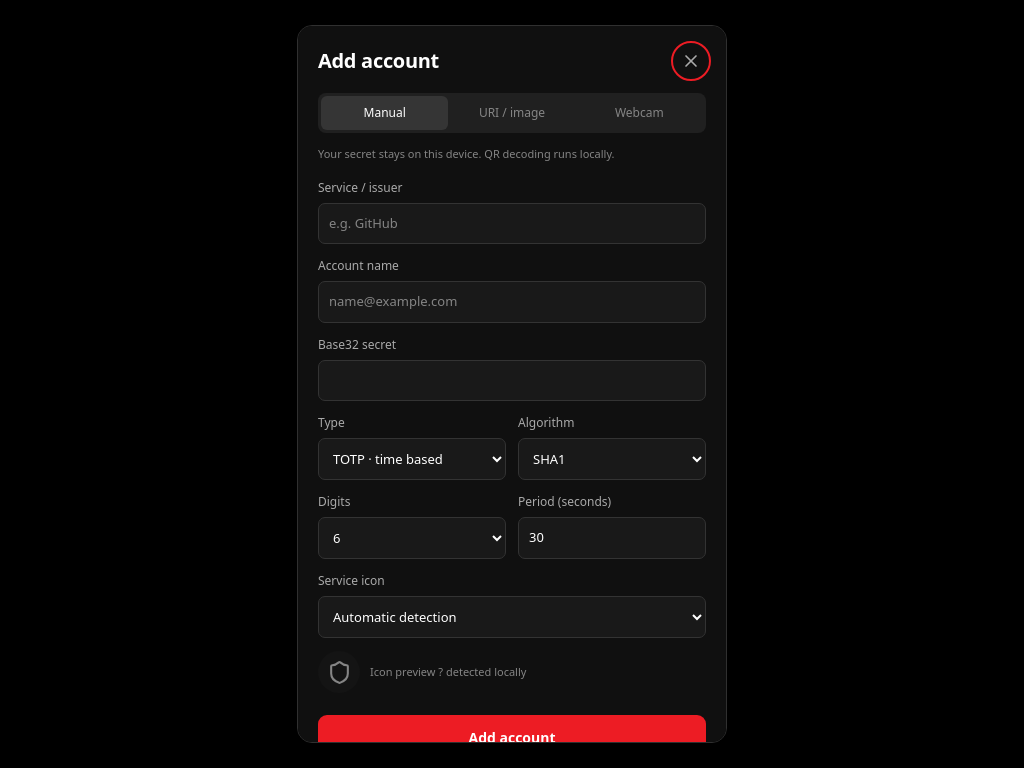
Test: shows backend validation errors without dismissing the account form
Type "alice" into the field labelled "Account name" at (512, 302), box [318,281,706,323]
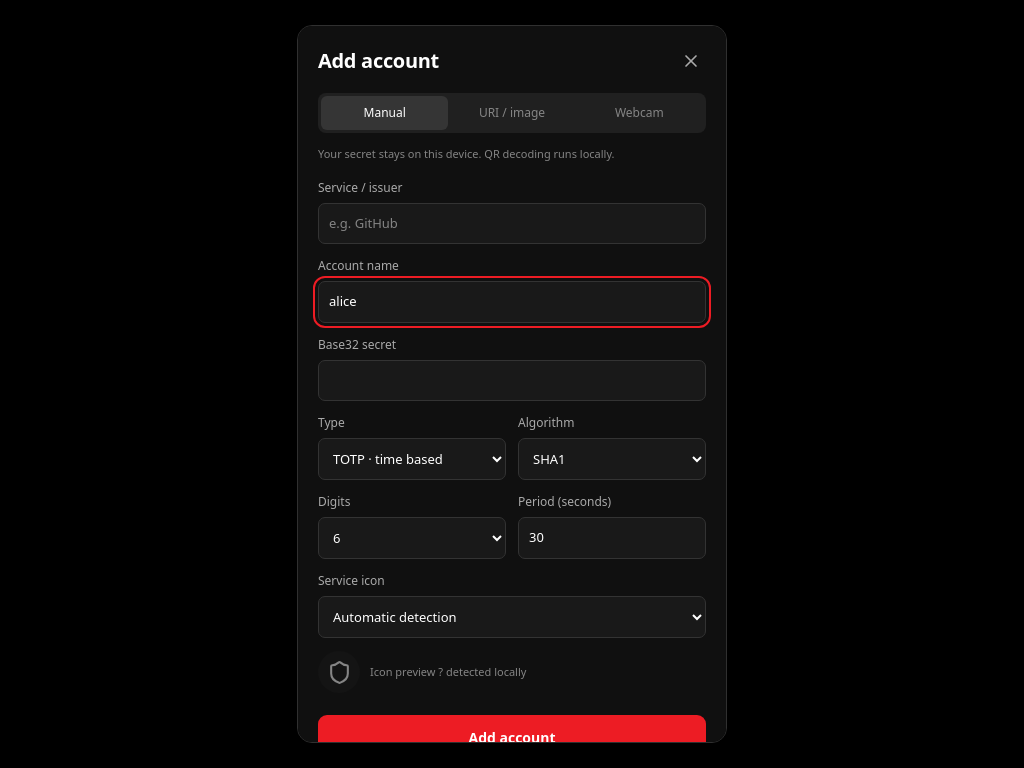
Type "INVALID!" into the password field labelled "Base32 secret" at (512, 380), box [318,360,706,401]
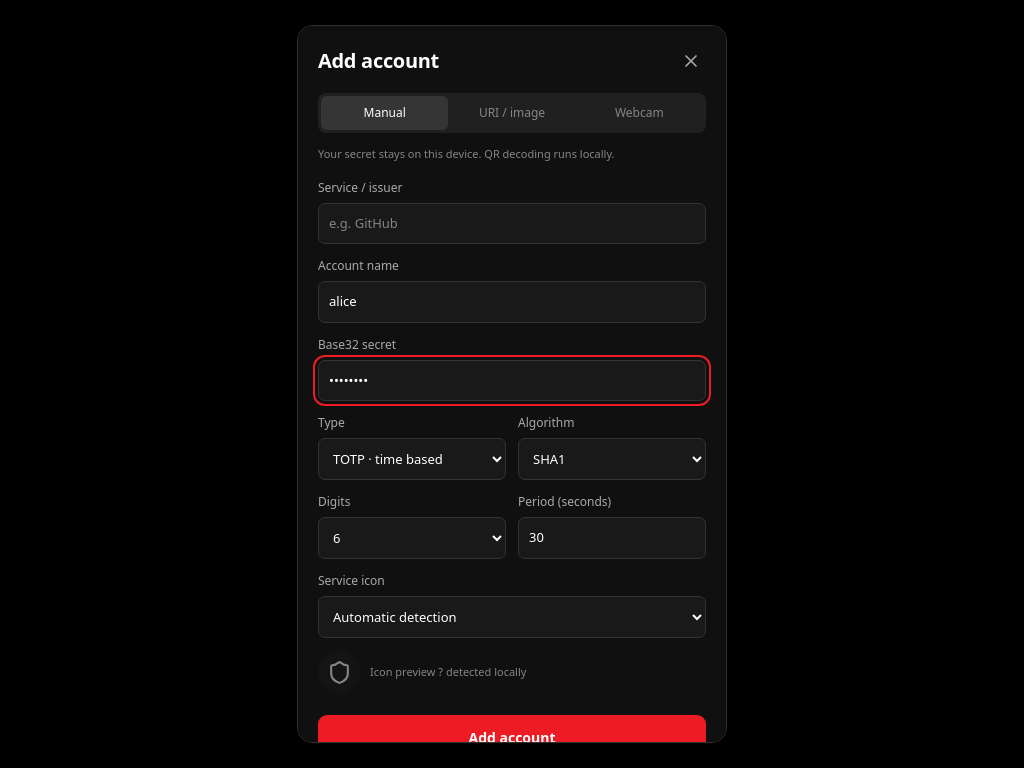
Click the button "Add account" at (512, 738), box [318,715,706,760]
(page scrolled)
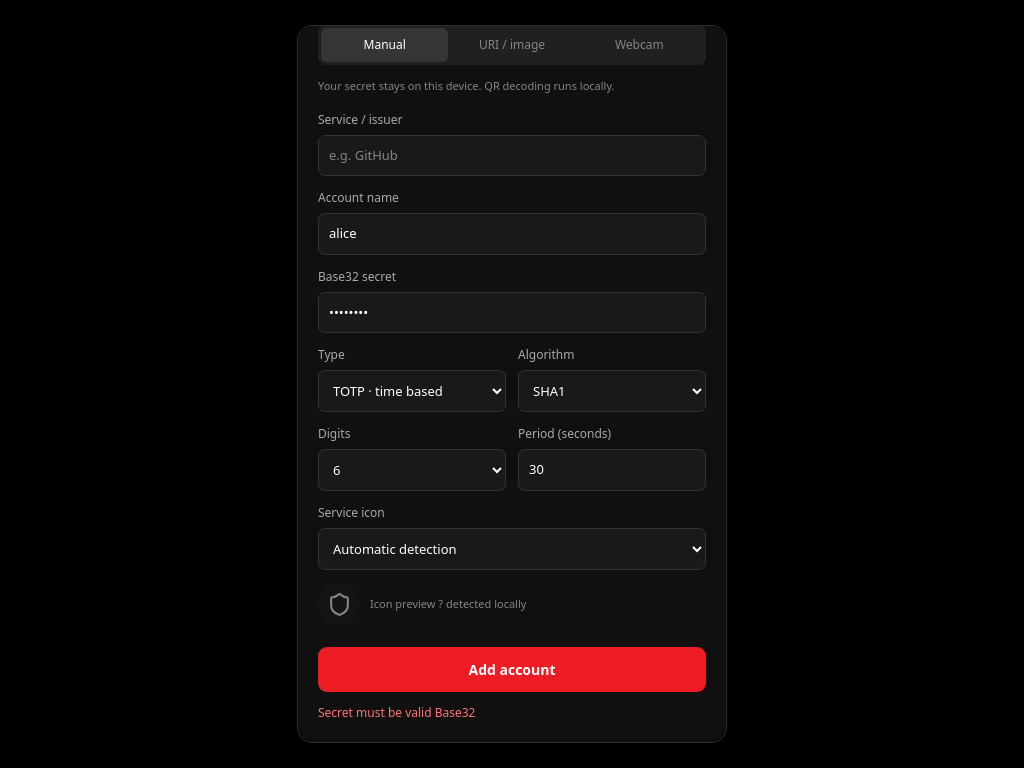
Result: the message reads "Secret must be valid Base32" at [318,704,476,721]
